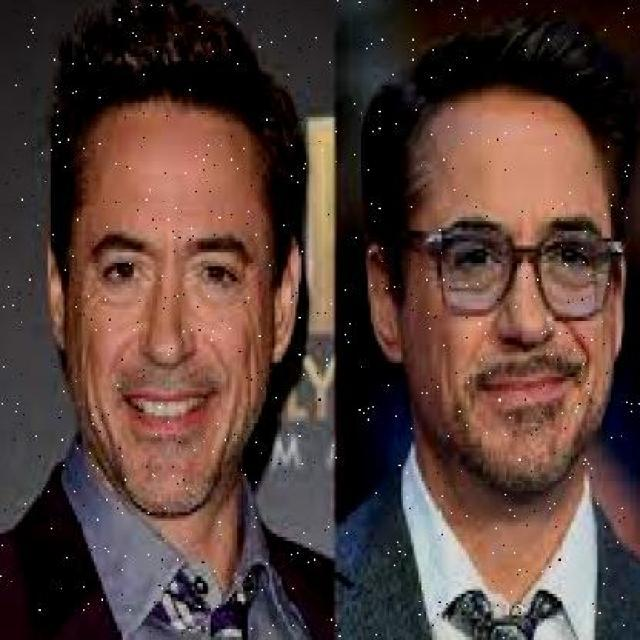glasses: (423, 213, 626, 324)
